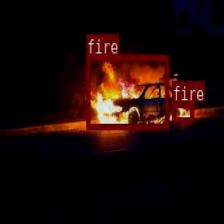fire: (86, 54, 168, 128), (172, 101, 193, 122)
